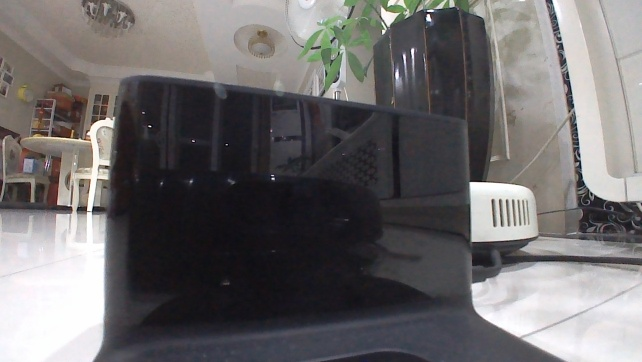charger: (90, 70, 569, 361)
dining_table: (0, 117, 120, 215)
wire: (488, 248, 641, 276)
